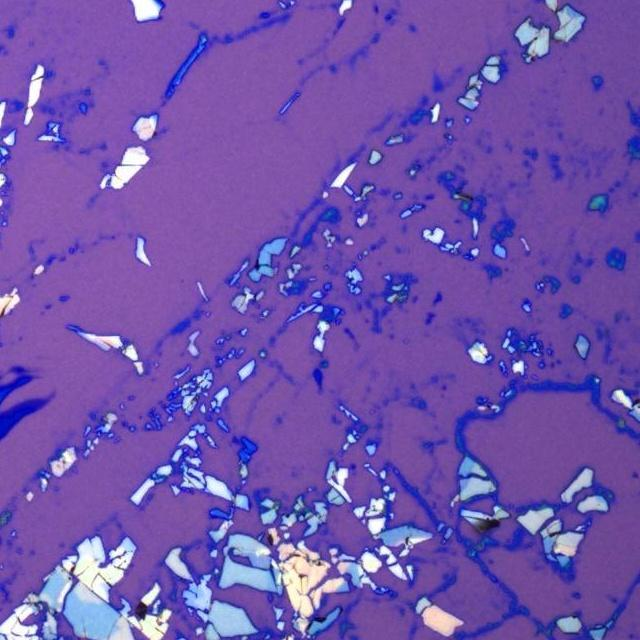monolayer-eWW4: (46, 390, 56, 402)
